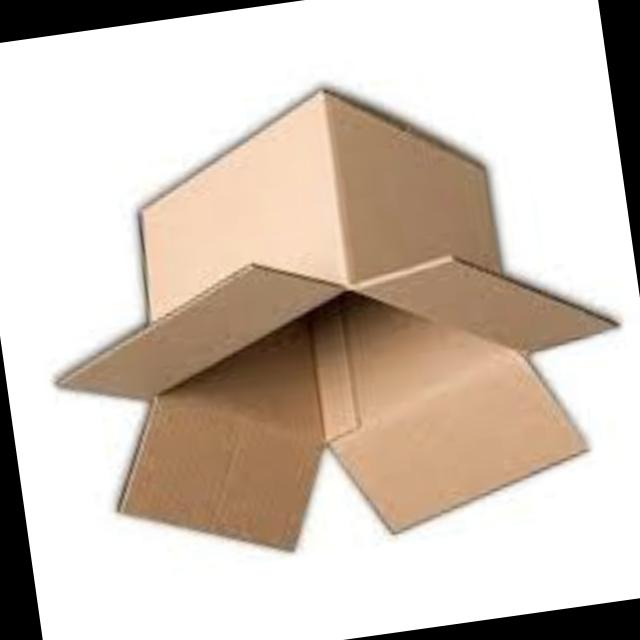cardboard paper: (56, 98, 609, 555), (306, 299, 581, 537), (116, 326, 318, 555)
